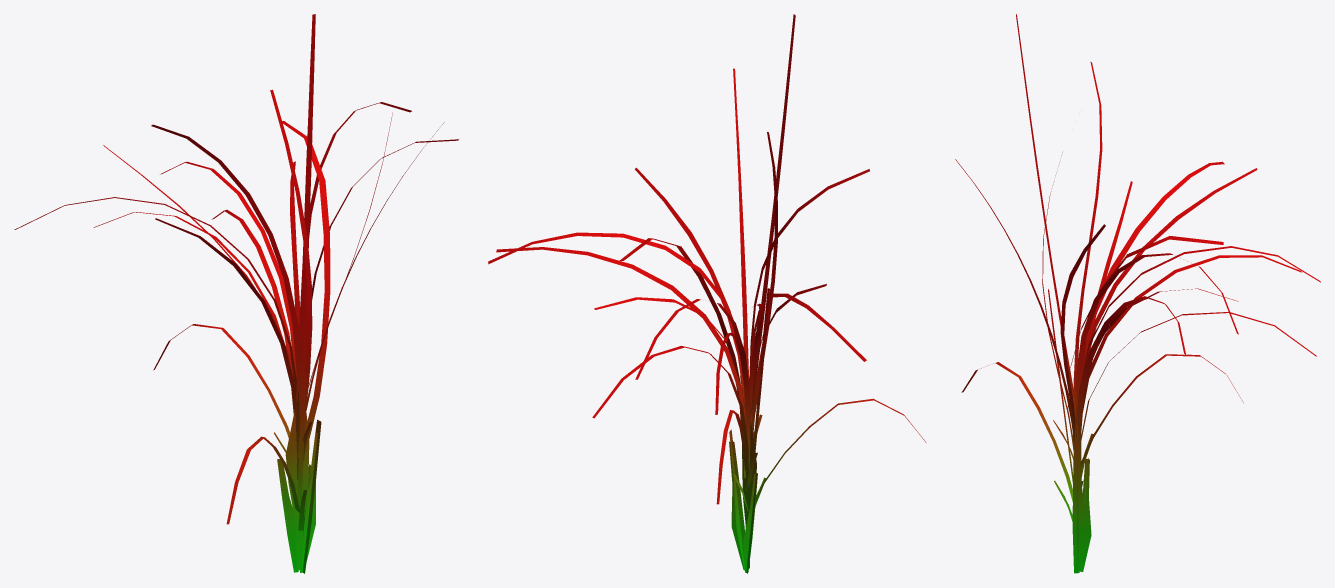
File: Sea Wheatgrass_LOD1_Var4_ui2oagjia.fbx
3 views of the same model, side by side, from view 1: azimuth 30°, elevation 25°; view 2: azimuth 150°, elevation 25°; view 3: azimuth 270°, elevation 25° (orthographic). The views are drawn at different scales.
Parts seen in each view (by area): view 1: _aago_Var4_LOD1; view 2: _aago_Var4_LOD1; view 3: _aago_Var4_LOD1.
Boxes of the visible parts, bbox=[...] form: _aago_Var4_LOD1: bbox=[14, 14, 458, 573]; _aago_Var4_LOD1: bbox=[488, 14, 926, 573]; _aago_Var4_LOD1: bbox=[955, 14, 1320, 573].
Bounding box in the file's own units: 52.27 × 69.2 × 41.75.
